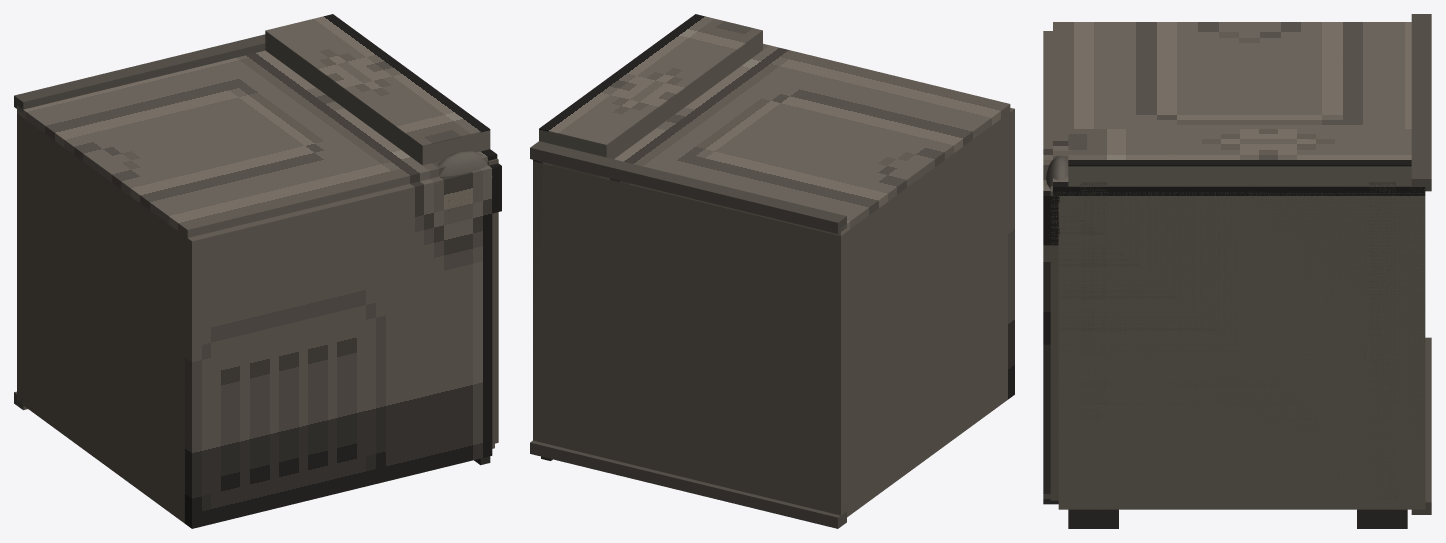
The model's file is CMU3DFreightRMCContainerShortTanRight.glb.
The picture shows the model from 3 angles, left to right: view 1: azimuth 30°, elevation 25°; view 2: azimuth 150°, elevation 25°; view 3: azimuth 270°, elevation 25°; orthographic projection. The views are drawn at different scales.
Parts seen in each view (by area): view 1: painted front panel, closed cargo shell, source-painted lid, source-painted locking strap, outer lid strap, rear horizontal frame, outer end wall, rounded strap end; view 2: closed cargo shell, source-painted lid, rear horizontal frame (×2), source-painted locking strap, outer lid strap, painted front panel, outer end wall; view 3: closed cargo shell, source-painted lid, outer end wall, source-painted locking strap, outer lid strap, rear horizontal frame (×2), painted front panel, corner lifting foot (×2), corner frame upright (×2), rounded strap end.
Part boxes in pixels (box(x1,y1,x2,y2)): painted front panel: box(184, 163, 501, 528); closed cargo shell: box(17, 113, 494, 523); source-painted lid: box(17, 50, 497, 237); source-painted locking strap: box(265, 14, 490, 146); outer lid strap: box(265, 32, 490, 165); rear horizontal frame: box(14, 34, 265, 113); outer end wall: box(487, 158, 498, 444); rounded strap end: box(438, 150, 487, 176); closed cargo shell: box(533, 114, 1007, 517); source-painted lid: box(533, 43, 1010, 235); rear horizontal frame (×2): box(530, 141, 846, 528); source-painted locking strap: box(539, 14, 762, 145); outer lid strap: box(539, 31, 762, 159); painted front panel: box(1008, 108, 1014, 399); outer end wall: box(533, 160, 542, 354); closed cargo shell: box(1058, 196, 1425, 509); source-painted lid: box(1053, 22, 1425, 195); outer end wall: box(1050, 186, 1425, 500); source-painted locking strap: box(1068, 129, 1411, 166); outer lid strap: box(1068, 166, 1411, 186); rear horizontal frame (×2): box(1411, 14, 1431, 514); painted front panel: box(1043, 31, 1059, 504); corner lifting foot (×2): box(1068, 509, 1407, 528); corner frame upright (×2): box(1080, 182, 1395, 499); rounded strap end: box(1046, 155, 1068, 188).
Size of the model in its own units: 1 by 1.03 by 0.995.
10 materials, 3 textured.
